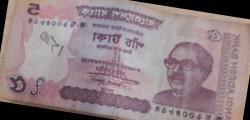5 taka: (9, 1, 240, 118)
